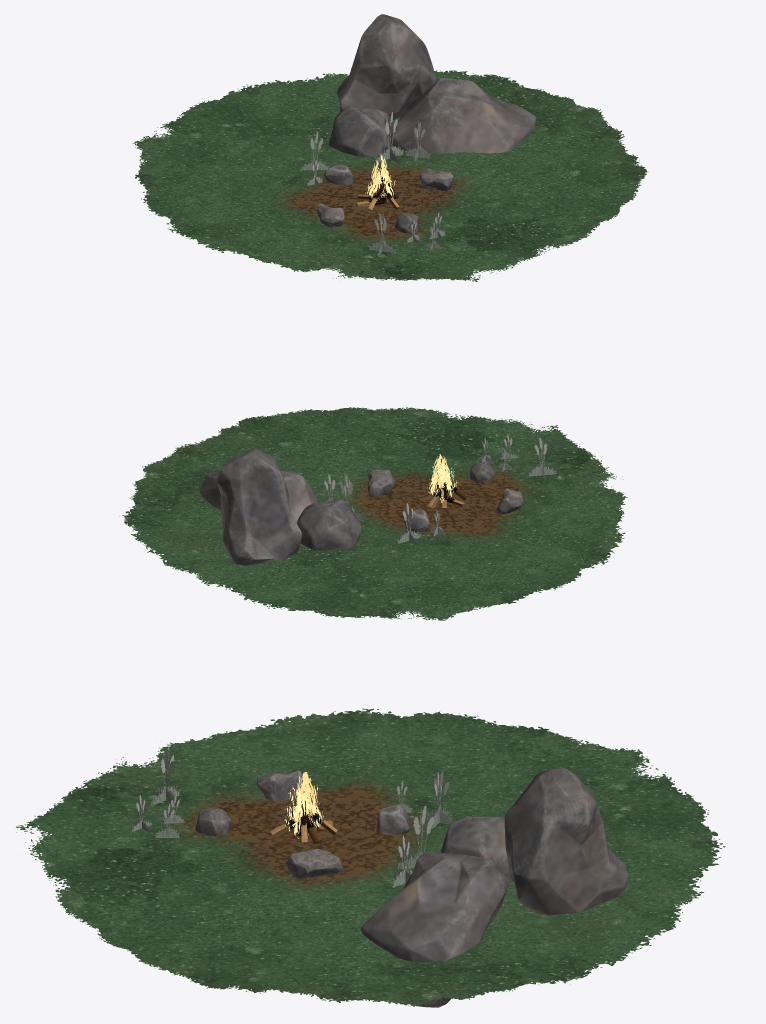
The model's file is campfire.glb.
3 renders of one model, top to bottom at view 1: azimuth 30°, elevation 25°; view 2: azimuth 150°, elevation 25°; view 3: azimuth 270°, elevation 25°, orthographic. The views are drawn at different scales.
Parts seen in each view (by area): view 1: Ground_8, Sitting Stone1.004_27, Sitting Stone1.006_33, Sitting Stone1.005_28, Flames_7, Sitting Stone1.003_13; view 2: Ground_8, Sitting Stone1.006_33, Sitting Stone1.005_28, Sitting Stone1.004_27, Flames_7, Sitting Stone1.003_13; view 3: Ground_8, Sitting Stone1.006_33, Sitting Stone1.004_27, Sitting Stone1.005_28, Sitting Stone1.003_13, Flames_7, Sitting Stone1.001_11, Sitting Stone1_10, Sitting Stone1.002_12, Plane.013_30.
Part boxes in pixels (<box>): Ground_8: <box>132,70,647,281</box>; Sitting Stone1.004_27: <box>391,78,536,153</box>; Sitting Stone1.006_33: <box>337,14,435,120</box>; Sitting Stone1.005_28: <box>329,106,391,156</box>; Flames_7: <box>365,155,395,201</box>; Sitting Stone1.003_13: <box>420,168,453,190</box>; Ground_8: <box>119,407,627,620</box>; Sitting Stone1.006_33: <box>217,448,301,565</box>; Sitting Stone1.005_28: <box>297,499,361,550</box>; Sitting Stone1.004_27: <box>199,470,318,523</box>; Flames_7: <box>427,454,458,502</box>; Sitting Stone1.003_13: <box>367,469,395,497</box>; Ground_8: <box>16,708,725,1006</box>; Sitting Stone1.006_33: <box>504,768,628,914</box>; Sitting Stone1.004_27: <box>360,851,509,1007</box>; Sitting Stone1.005_28: <box>441,816,511,880</box>; Sitting Stone1.003_13: <box>285,848,343,878</box>; Flames_7: <box>284,772,323,838</box>; Sitting Stone1.001_11: <box>256,770,305,800</box>; Sitting Stone1_10: <box>376,805,410,834</box>; Sitting Stone1.002_12: <box>195,808,231,836</box>; Plane.013_30: <box>397,805,433,868</box>.
Size of the model in its own units: 0.6 by 0.1788 by 0.6.
5 materials, 5 textured.
